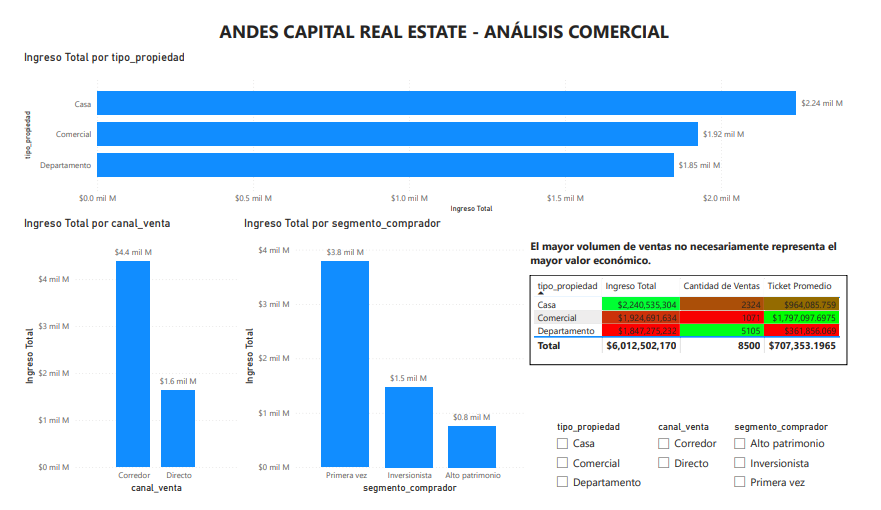

Layout of this report page (visuals, bound fields, positions):
{"tool":"powerbi","page":{"name":"Análisis Comercial","canvas":[1280,720],"ordinal":1},"visuals":[{"type":"textbox","box":[10,0,1270,53.3],"z":0},{"type":"barChart","fields":{"Category":["dim_propiedades.tipo_propiedad"],"Y":["hecho_ventas_propiedades.Ingreso Total"]},"box":[10.1,53.3,1270.1,247.7],"z":1000},{"type":"clusteredColumnChart","fields":{"Category":["hecho_ventas_propiedades.canal_venta"],"Y":["hecho_ventas_propiedades.Ingreso Total"]},"box":[10.1,301,329.8,419],"z":2000},{"type":"clusteredColumnChart","fields":{"Category":["dim_clientes.segmento_comprador"],"Y":["hecho_ventas_propiedades.Ingreso Total"]},"box":[339.8,301,429.1,419],"z":3000},{"type":"tableEx","fields":{"Values":["dim_propiedades.tipo_propiedad","hecho_ventas_propiedades.Ingreso Total","hecho_ventas_propiedades.Cantidad de Ventas","hecho_ventas_propiedades.Ticket Promedio"]},"box":[772.9,388.6,475.7,135.7],"z":4000},{"type":"slicer","fields":{"Values":["dim_propiedades.tipo_propiedad"]},"box":[800.6,603.4,152.6,116.6],"z":5000},{"type":"slicer","fields":{"Values":["hecho_ventas_propiedades.canal_venta"]},"box":[953.3,603.4,113.8,116.6],"z":6000},{"type":"slicer","fields":{"Values":["dim_clientes.segmento_comprador"]},"box":[1067,603.4,177.1,116.6],"z":7000},{"type":"textbox","box":[768.6,330,484.3,58.6],"z":8000}]}

Visuals, with their boxes in screenshot pixels (x1, y1, x2, y2), scaled from the page's 1280x720 canvas onto the 881x510 screenshot:
textbox: region(7, 0, 880, 38)
barChart - dim_propiedades.tipo_propiedad x hecho_ventas_propiedades.Ingreso Total: region(7, 38, 880, 213)
clusteredColumnChart - hecho_ventas_propiedades.canal_venta x hecho_ventas_propiedades.Ingreso Total: region(7, 213, 234, 509)
clusteredColumnChart - dim_clientes.segmento_comprador x hecho_ventas_propiedades.Ingreso Total: region(234, 213, 529, 509)
tableEx - dim_propiedades.tipo_propiedad x hecho_ventas_propiedades.Ingreso Total: region(532, 275, 859, 371)
slicer - dim_propiedades.tipo_propiedad: region(551, 427, 656, 509)
slicer - hecho_ventas_propiedades.canal_venta: region(656, 427, 734, 509)
slicer - dim_clientes.segmento_comprador: region(734, 427, 856, 509)
textbox: region(529, 234, 862, 275)
